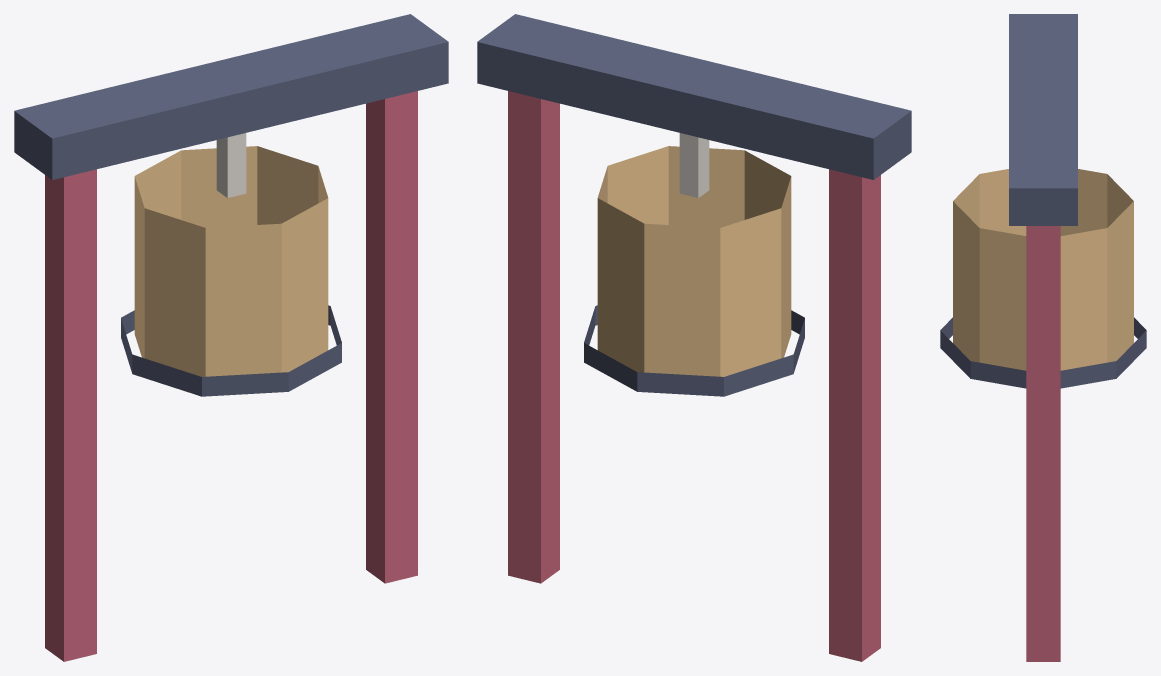
File: dojo_suspended_bell_lod1.gltf
3 renders of one model, left to right at view 1: azimuth 30°, elevation 25°; view 2: azimuth 150°, elevation 25°; view 3: azimuth 270°, elevation 25°, orthographic. The views are drawn at different scales.
Visible parts, largest first — view 1: dojo_suspended_bell_lod1; view 2: dojo_suspended_bell_lod1; view 3: dojo_suspended_bell_lod1.
Boxes of the visible parts, x1,y1,x2,y2 form: dojo_suspended_bell_lod1: (14, 14, 448, 661); dojo_suspended_bell_lod1: (477, 14, 911, 661); dojo_suspended_bell_lod1: (940, 14, 1146, 661).
Size of the model in its own units: 4.2 by 5.42 by 2.1.
